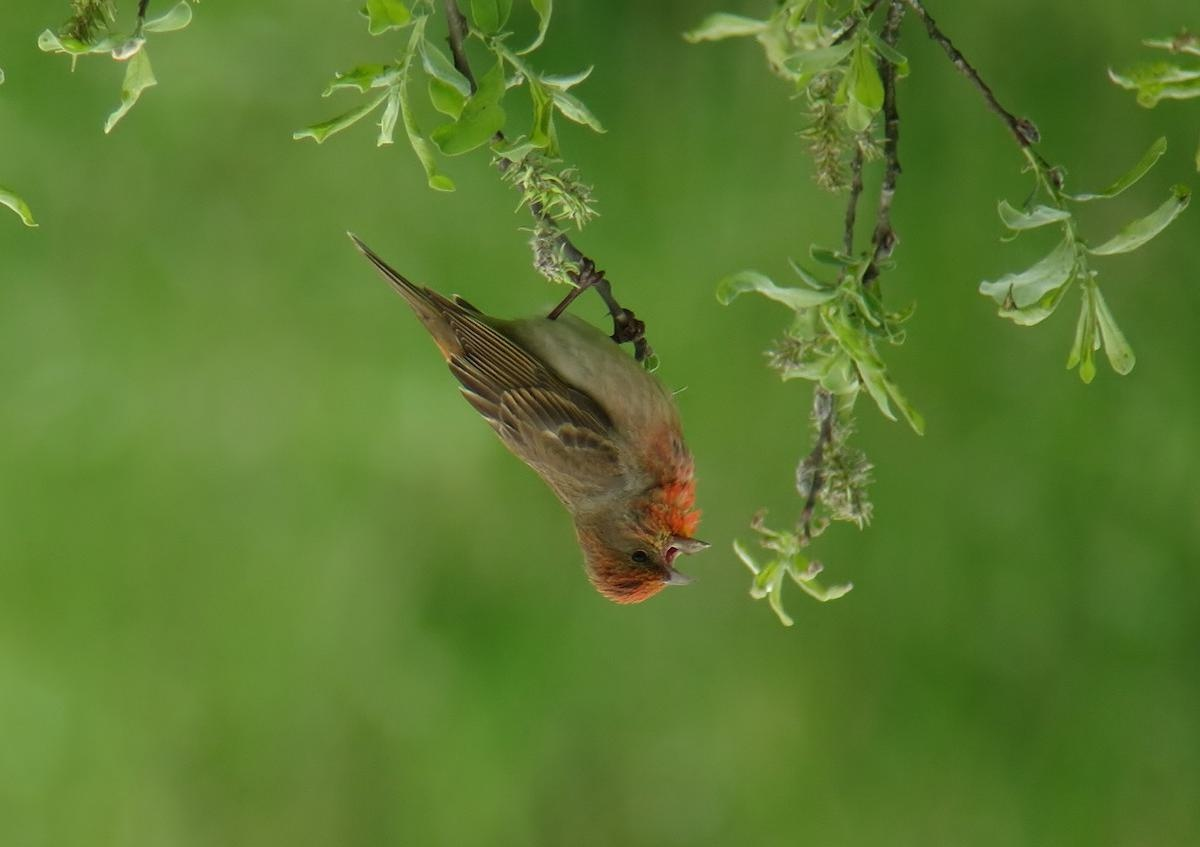rosefinch: (415, 246, 717, 615)
